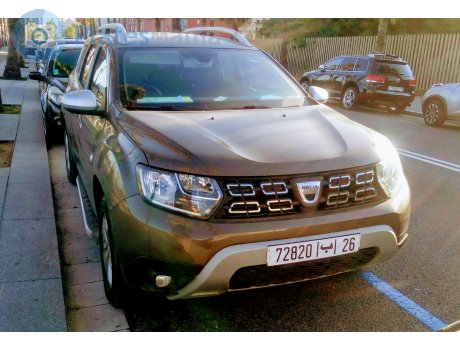number_plate: (266, 234, 359, 270)
